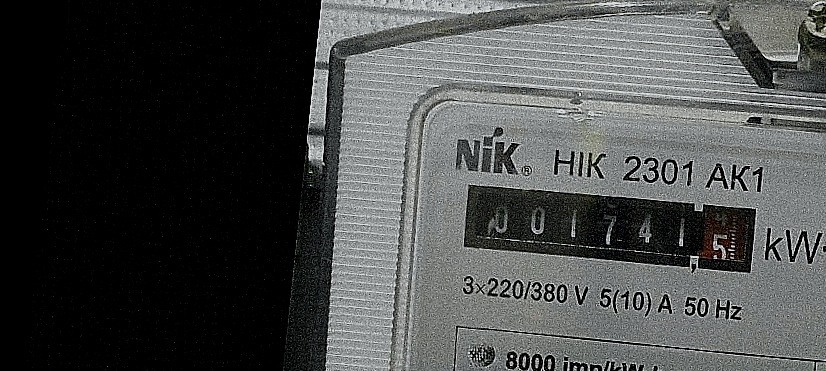0: (526, 202, 549, 238), (490, 201, 513, 236)
1: (562, 204, 583, 241), (672, 214, 690, 250)
4: (634, 209, 658, 246), (712, 209, 730, 229)
5: (708, 229, 730, 262)
7: (598, 210, 618, 247)
screen: (455, 172, 765, 284)
